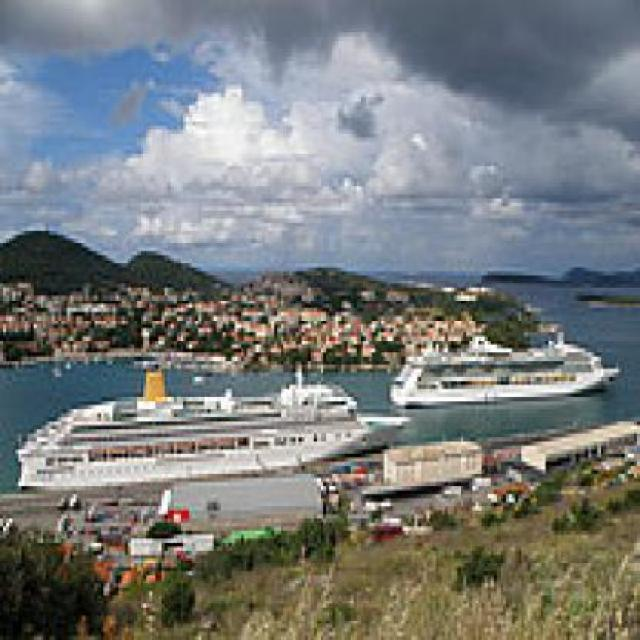cruise: (9, 350, 425, 504), (379, 304, 633, 423)
